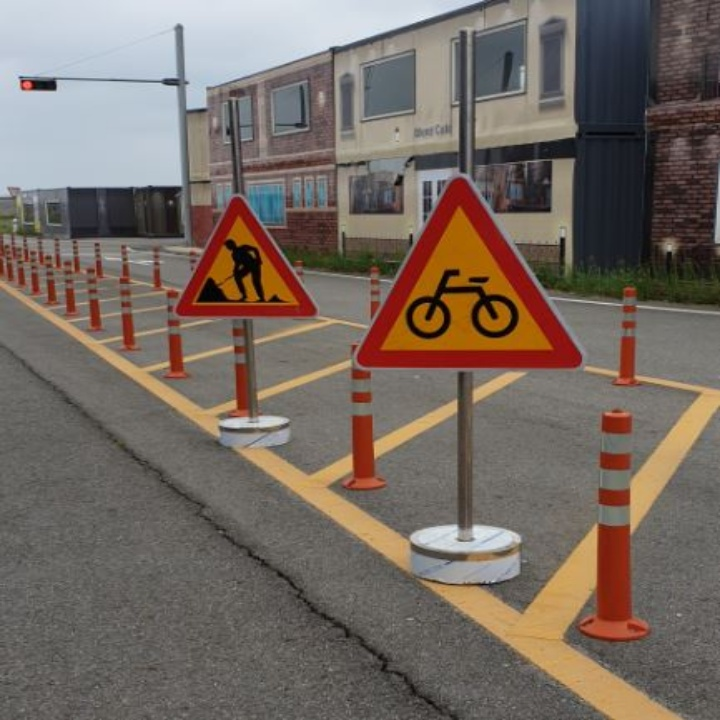bicycle: (402, 259, 525, 346)
const: (196, 236, 293, 306)
